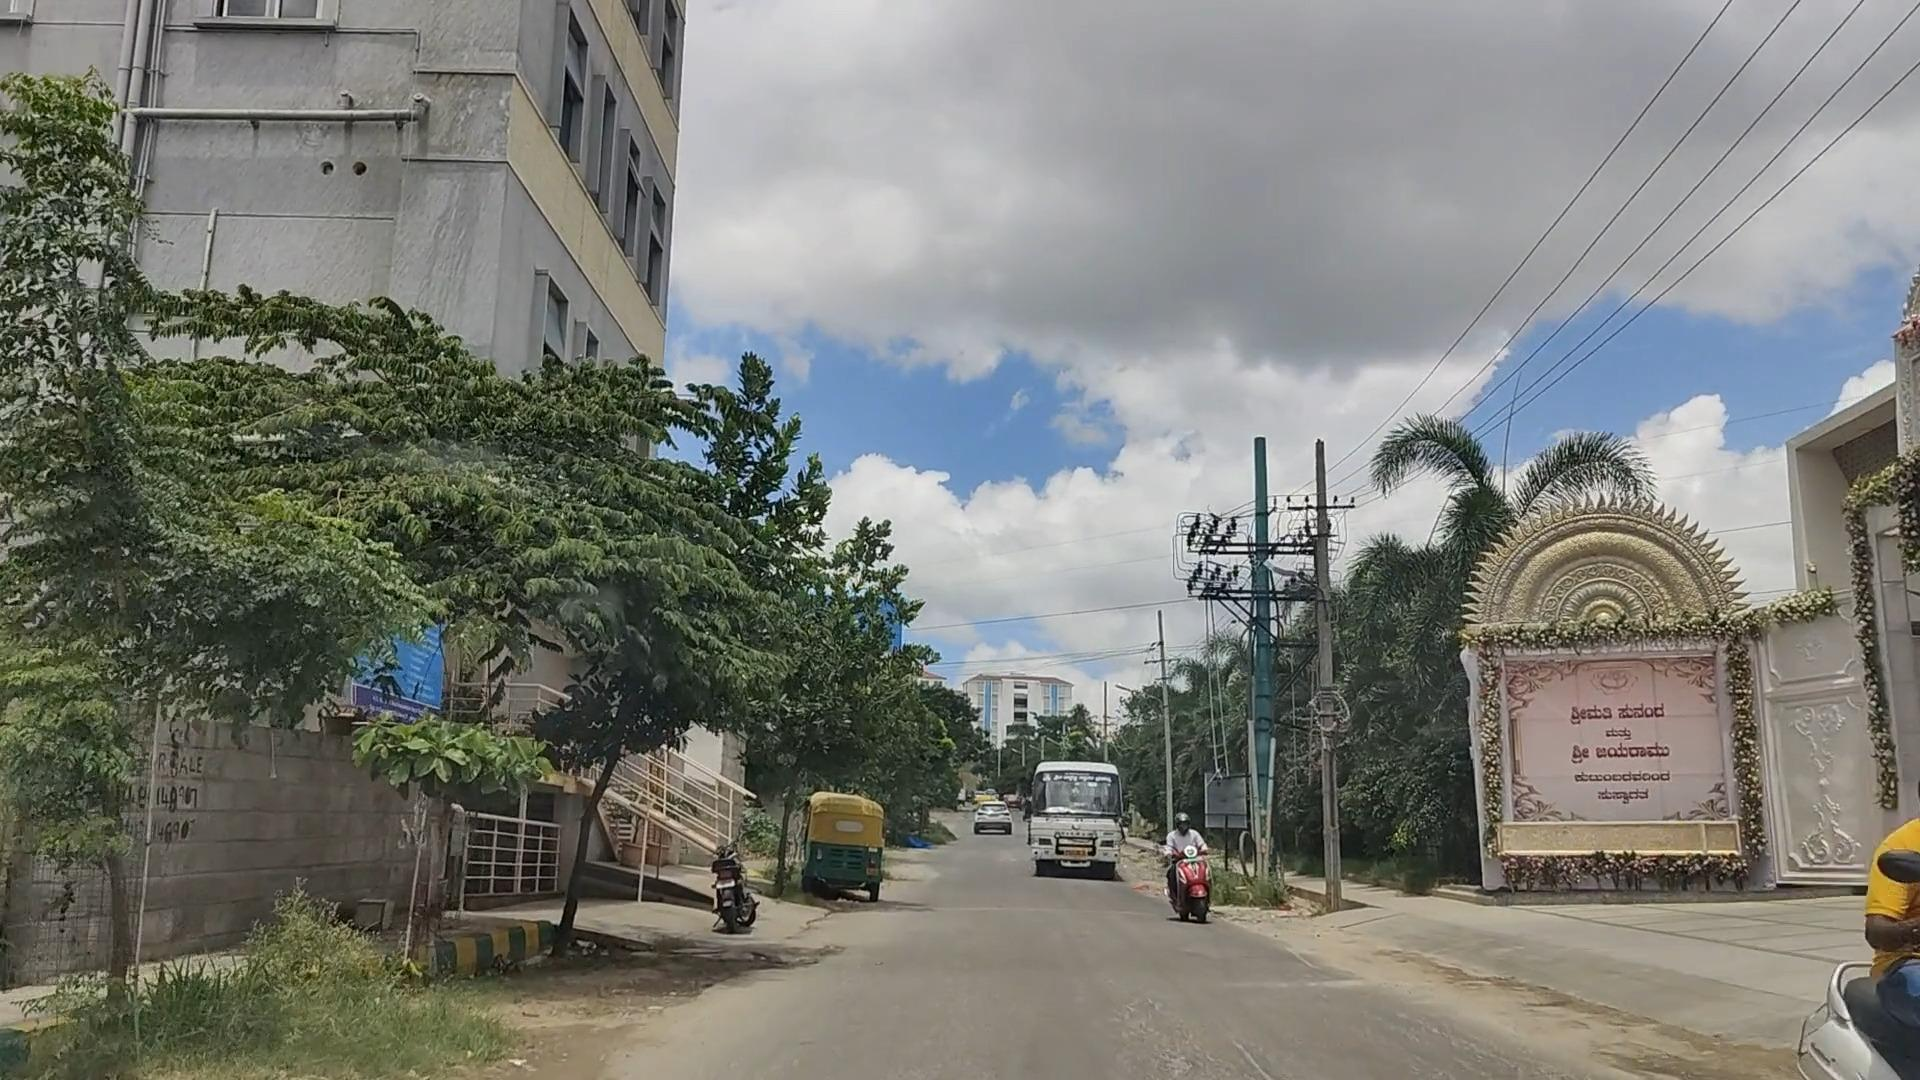HMV: (1022, 750, 1138, 887)
RoadDamages: (680, 932, 796, 975)
